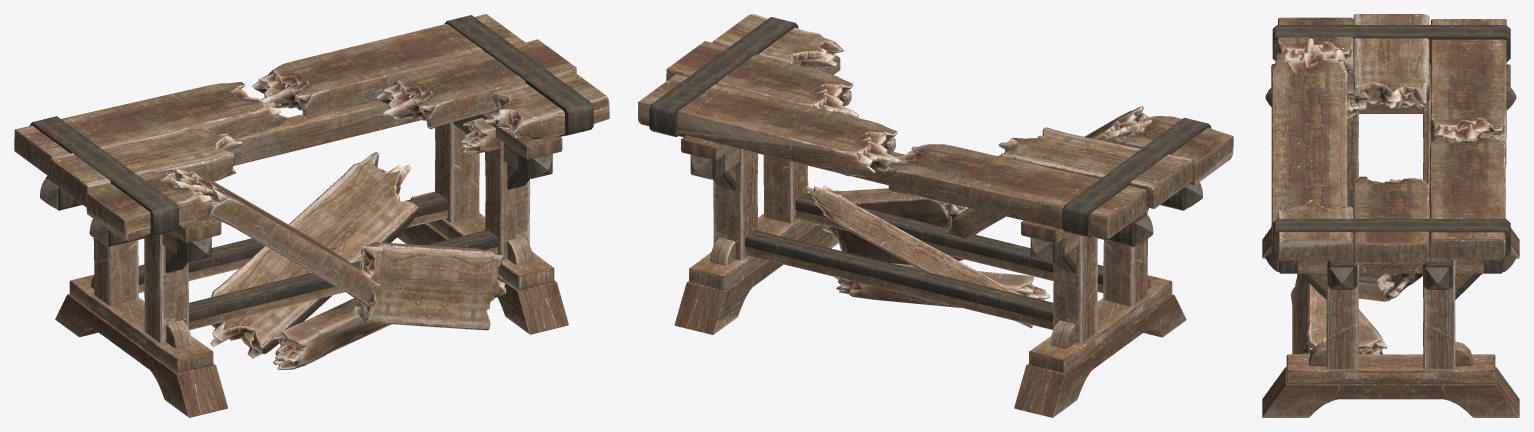
The picture shows the model from 3 angles, left to right: view 1: azimuth 30°, elevation 25°; view 2: azimuth 150°, elevation 25°; view 3: azimuth 270°, elevation 25°; orthographic projection. The views are drawn at different scales.
Visible parts, largest first — view 1: SM_DR_Table_B_01_01_LOD0; view 2: SM_DR_Table_B_01_01_LOD0; view 3: SM_DR_Table_B_01_01_LOD0.
Boxes of the visible parts, x1=… form: SM_DR_Table_B_01_01_LOD0: x1=14, y1=14, x2=609, y2=417; SM_DR_Table_B_01_01_LOD0: x1=638, y1=14, x2=1233, y2=417; SM_DR_Table_B_01_01_LOD0: x1=1262, y1=14, x2=1519, y2=417.
Bounding box in the file's own units: 2.77 × 1.17 × 1.3.
3 materials, 3 textured.
